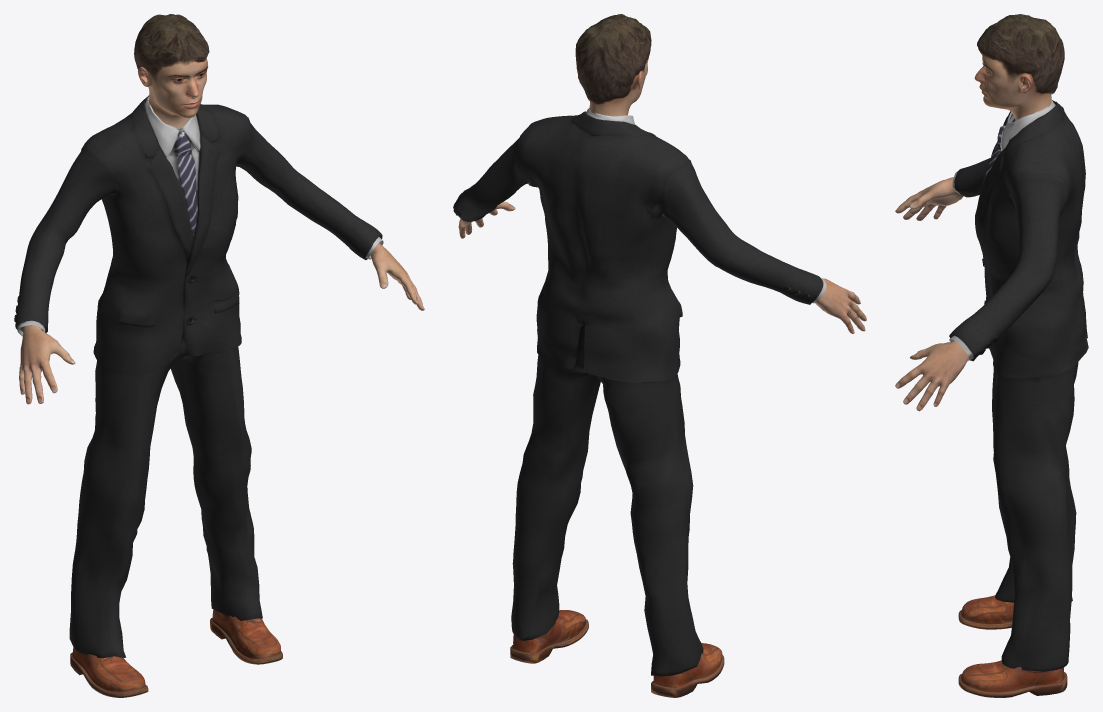
The model's file is human.glb.
3 renders of one model, left to right at view 1: azimuth 30°, elevation 25°; view 2: azimuth 150°, elevation 25°; view 3: azimuth 270°, elevation 25°, orthographic.
Visible parts, largest first — view 1: male_elegantsuit01Mesh_8, no_boneMesh_0, shoes01Mesh_7, short02Mesh_1; view 2: male_elegantsuit01Mesh_8, short02Mesh_1, shoes01Mesh_7, no_boneMesh_0; view 3: male_elegantsuit01Mesh_8, no_boneMesh_0, short02Mesh_1, shoes01Mesh_7.
Part boxes in pixels (left/top/right/bottom): male_elegantsuit01Mesh_8: left=14, top=95, right=383, bottom=658; no_boneMesh_0: left=19, top=58, right=424, bottom=404; shoes01Mesh_7: left=70, top=609, right=282, bottom=697; short02Mesh_1: left=134, top=14, right=209, bottom=80; male_elegantsuit01Mesh_8: left=453, top=108, right=826, bottom=676; short02Mesh_1: left=575, top=14, right=651, bottom=104; shoes01Mesh_7: left=510, top=610, right=724, bottom=697; no_boneMesh_0: left=458, top=58, right=866, bottom=333; male_elegantsuit01Mesh_8: left=949, top=100, right=1088, bottom=671; no_boneMesh_0: left=895, top=54, right=1051, bottom=411; short02Mesh_1: left=977, top=14, right=1064, bottom=94; shoes01Mesh_7: left=958, top=595, right=1067, bottom=697.
Bounding box in the file's own units: 1.11 × 1.73 × 0.4756.
Materials: 9 (9 with a texture image).
